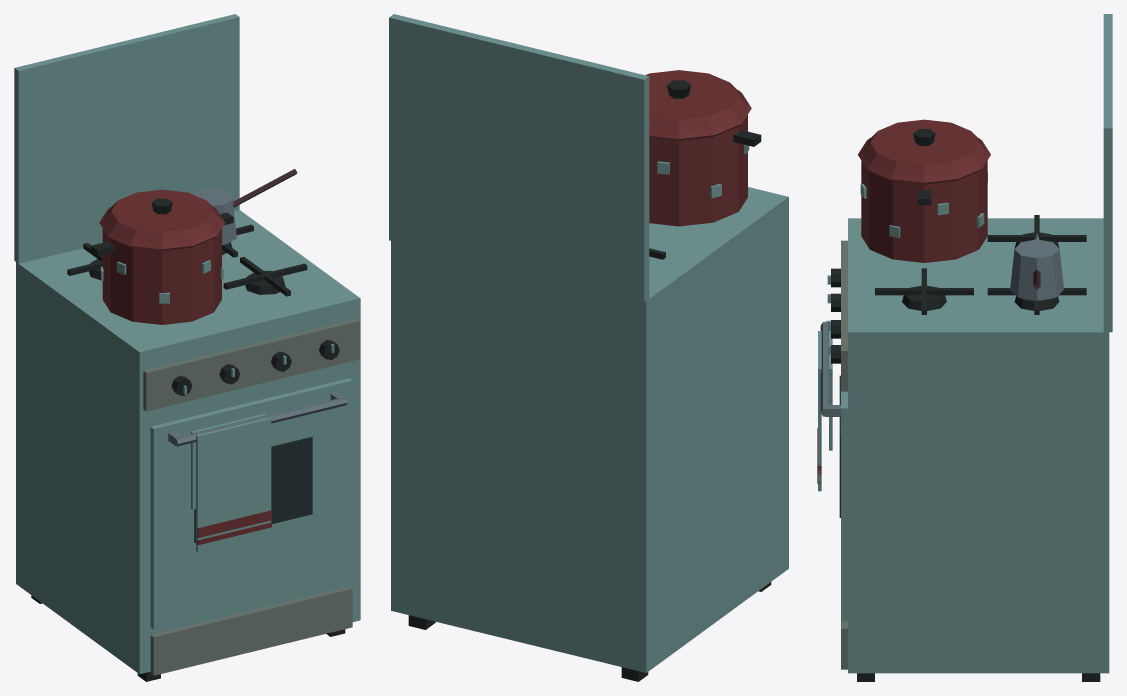
Rendered from aragaz.glb.
3 views of the same model, side by side, from view 1: azimuth 30°, elevation 25°; view 2: azimuth 150°, elevation 25°; view 3: azimuth 270°, elevation 25° (orthographic). The views are drawn at different scales.
Parts seen in each view (by area): view 1: Aragaz, Capac; view 2: Aragaz, Capac; view 3: Aragaz, Capac.
Boxes of the visible parts, <box> form: Aragaz: <box>14,14,360,681</box>; Capac: <box>103,189,221,244</box>; Aragaz: <box>389,14,788,681</box>; Capac: <box>645,70,747,133</box>; Aragaz: <box>817,14,1112,681</box>; Capac: <box>862,119,986,177</box>.
Bounding box in the file's own units: 0.6939 × 1.37 × 0.656.
